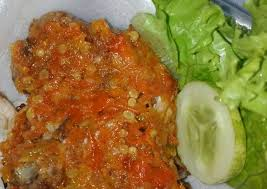ayam_geprek: (15, 18, 189, 189)
